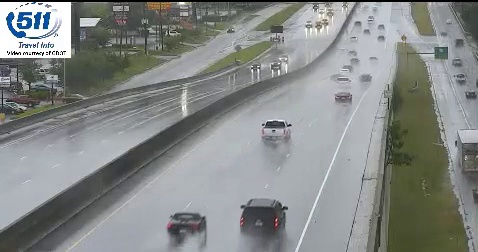car: (240, 199, 284, 235), (169, 213, 205, 237), (261, 120, 291, 140), (334, 92, 351, 103)
